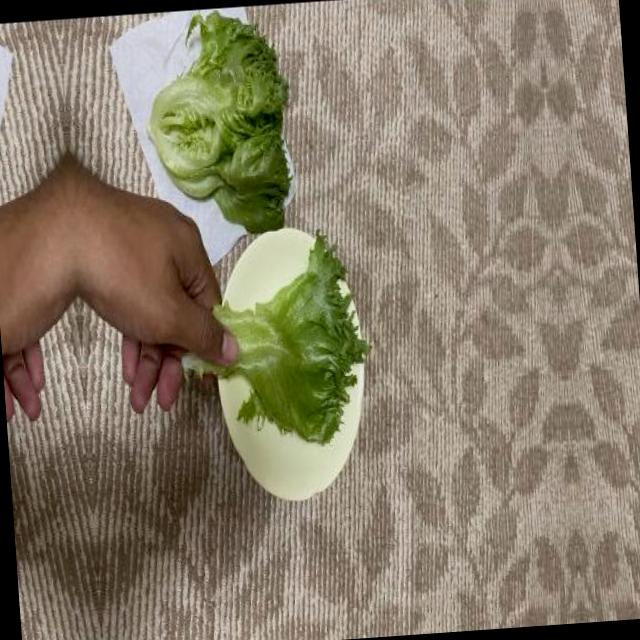healthy: (174, 222, 376, 458), (137, 3, 307, 244)
